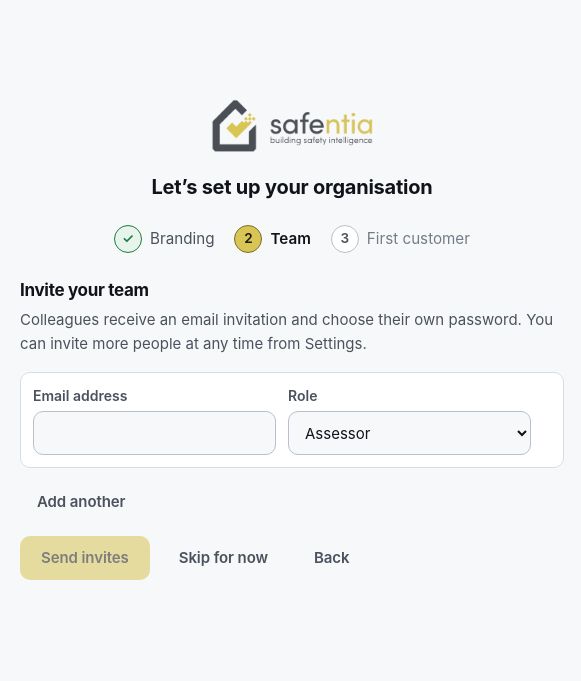
Test: SetupWizard › rejects a duplicate email on add
Type "a@example.com" into the field labelled "Email address" at (154, 433), box [33,411,276,455]
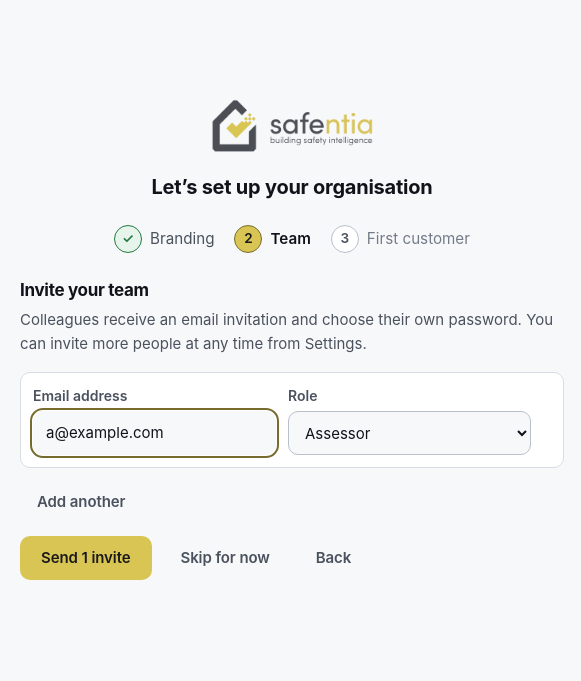
Click the button "Add another" at (81, 502), box [20,480,142,524]
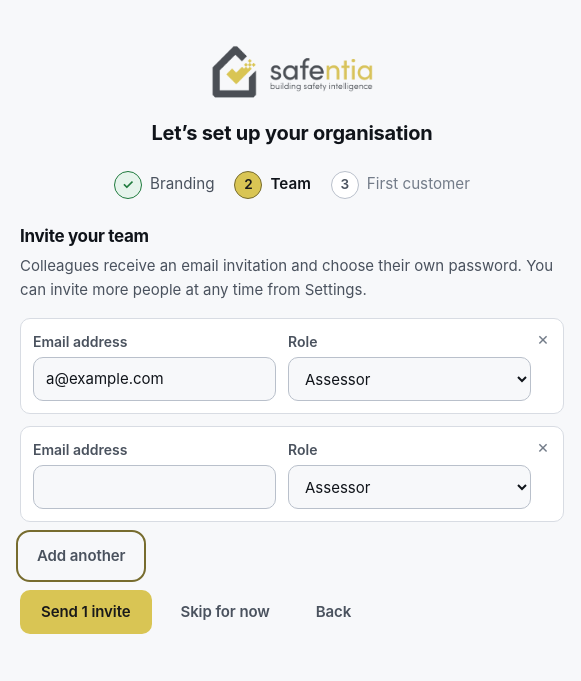
Type "A@example.com" into the 2nd field labelled "Email address" at (154, 488), box [33,466,276,510]
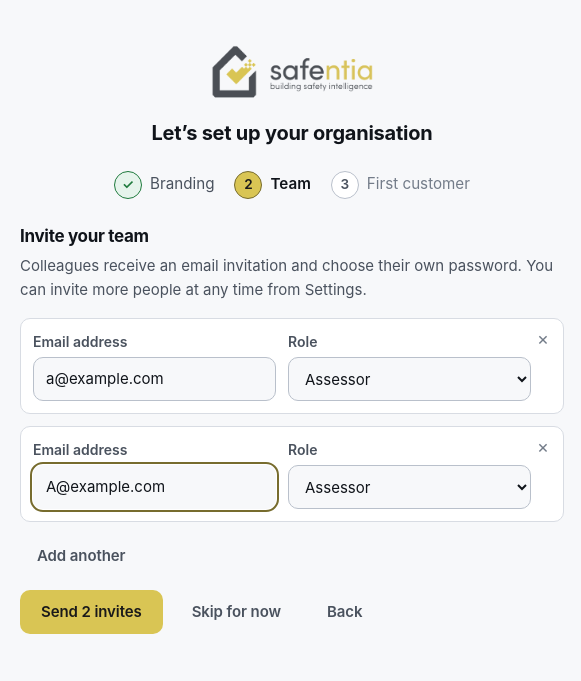
Click the button "Add another" at (81, 556), box [20,534,142,578]
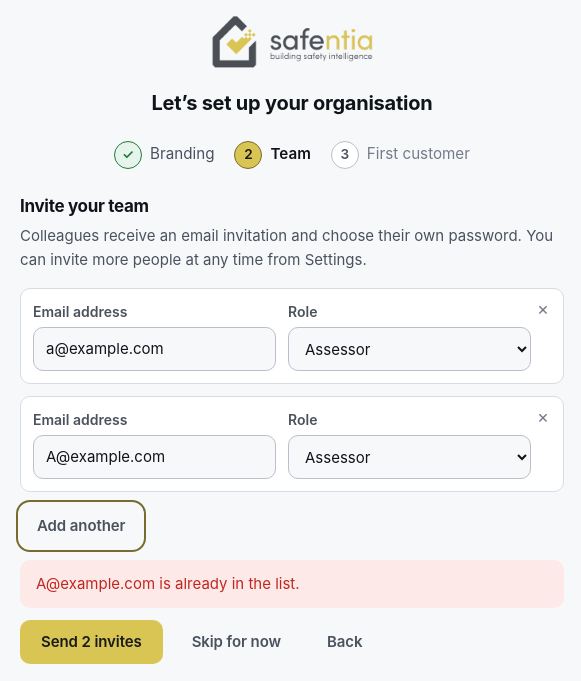
Check: the number of fields labelled "Email address" is 2, box [33,327,276,371]; [33,436,276,480]
Check: the text "A@example.com is already in the list." is shown, box [20,560,564,608]
